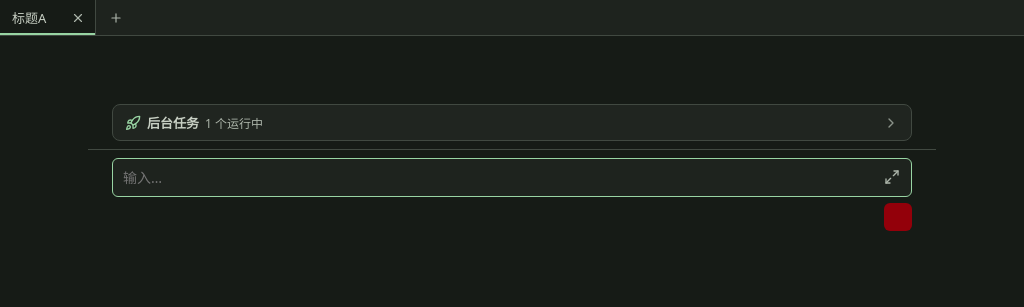
Test case: 后台 shell 输出窗（review 修订：phase 竞态 + Gone 空态） › info 先回 running、output 后回：phase 不被 done 覆盖（增量轮询可启动）
The image size is (1024, 307).
Click the text "后台任务" at x=173, y=122, box [147,113,199,132]
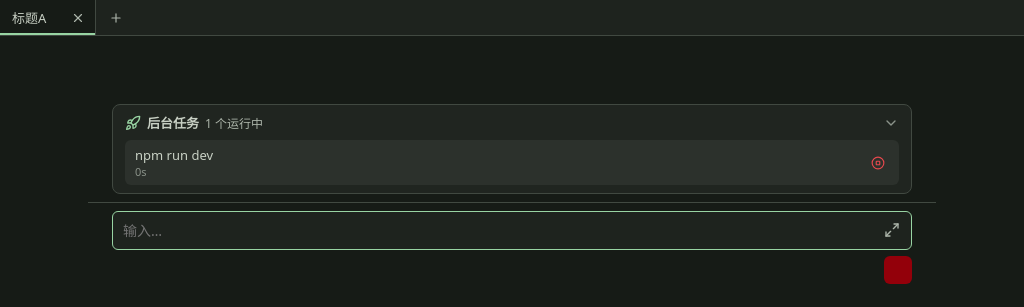
Click the text "npm run dev" at x=174, y=155, box [135,146,213,164]
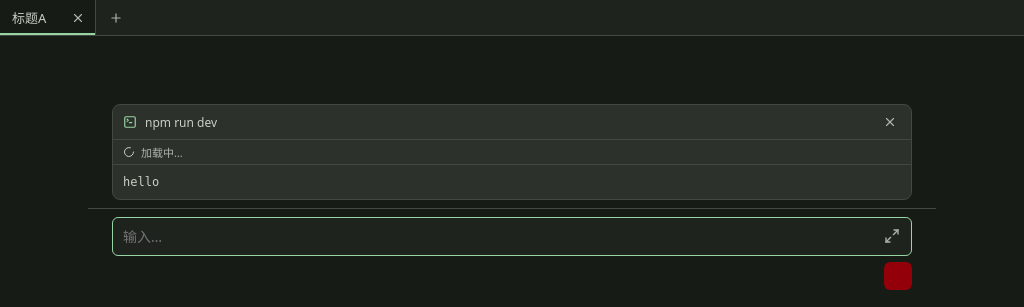
Expected: the text "hello" is shown, [123,175,159,189]
Expected: the text "加载中…" is shown, [141,144,183,160]
